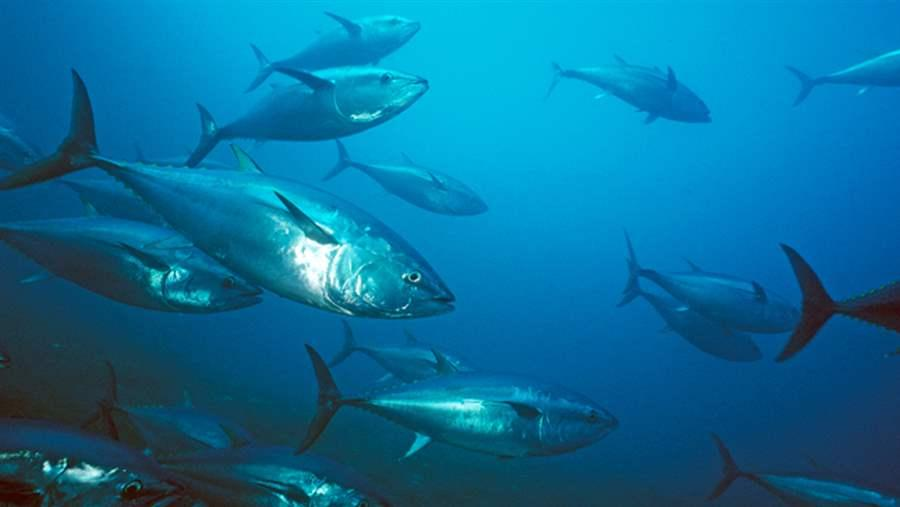Bluefina Tuna: (17, 68, 459, 342), (287, 338, 628, 467), (165, 54, 453, 183), (537, 50, 738, 132)
